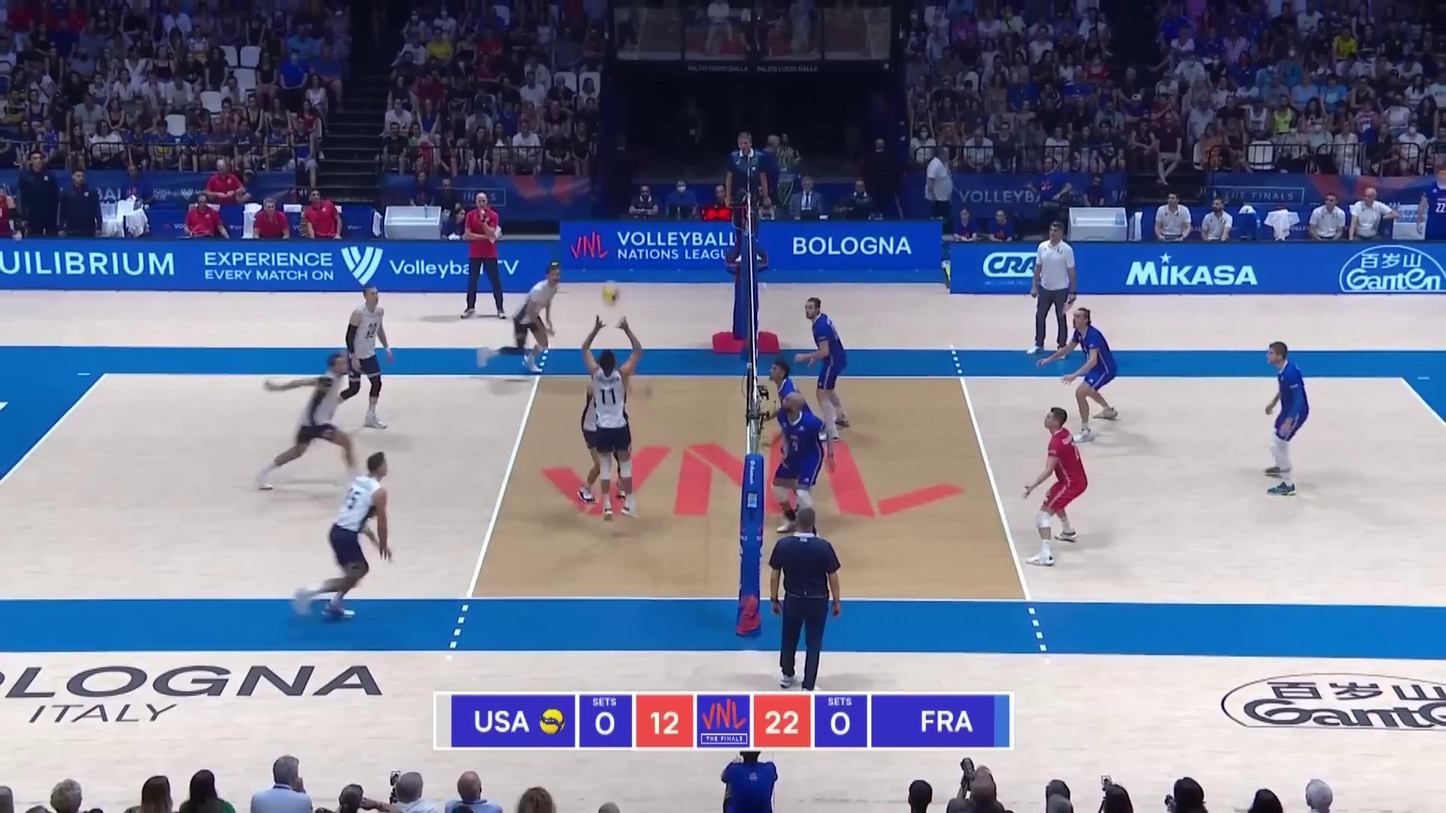player: (296, 455, 391, 629), (259, 357, 361, 492), (586, 316, 643, 522), (1025, 406, 1093, 564), (1054, 307, 1125, 440), (766, 393, 830, 532), (578, 367, 639, 506), (334, 289, 391, 430), (1259, 341, 1310, 495), (798, 301, 850, 442), (765, 361, 821, 488), (507, 264, 565, 376)
refree: (769, 503, 845, 685), (730, 135, 781, 268)
